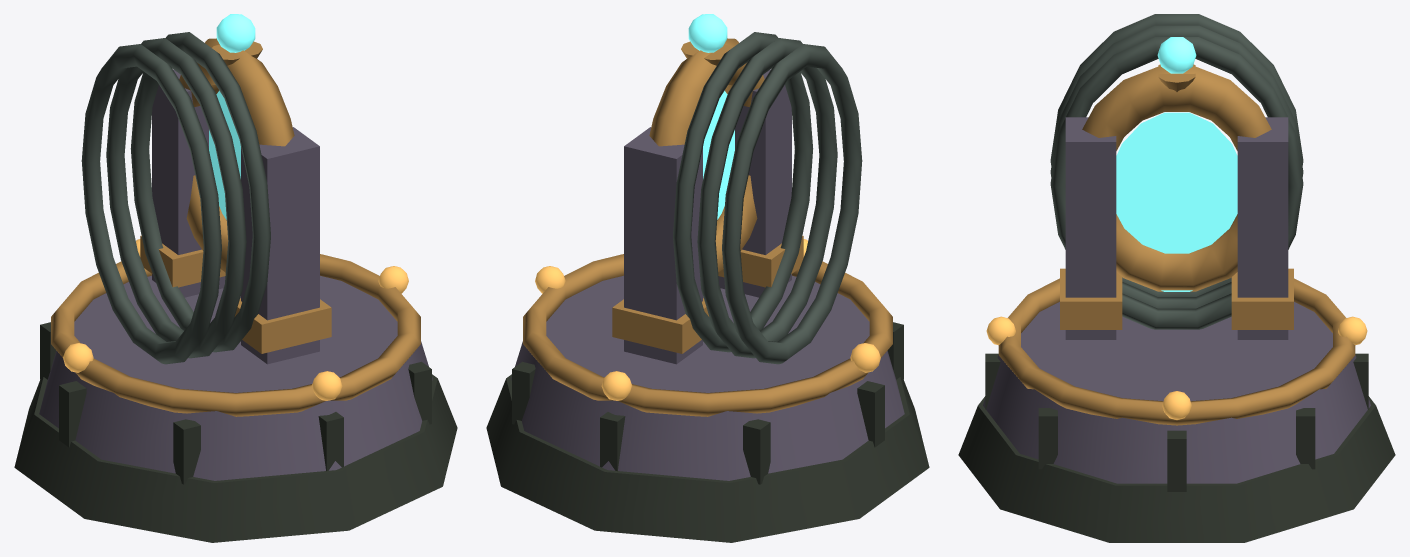
Rendered from tower_portal_portalSluice_ultimate.glb.
3 views of the same model, side by side, from view 1: azimuth 30°, elevation 25°; view 2: azimuth 150°, elevation 25°; view 3: azimuth 270°, elevation 25° (orthographic). The views are drawn at different scales.
Visible parts, largest first — view 1: stone_1, foot_0, time_gate_23, rim_2, time_gate_22, time_gate_21, arch_pillar_15, arch_pillar_17, arch_19, band_16, band_18, mortar_6 (+9 smaller); view 2: stone_1, foot_0, time_gate_23, rim_2, time_gate_22, time_gate_21, arch_pillar_17, arch_pillar_15, arch_19, band_18, band_16, mortar_8 (+9 smaller); view 3: stone_1, foot_0, portal_surface_20, arch_19, rim_2, time_gate_21, arch_pillar_15, arch_pillar_17, time_gate_22, time_gate_23, band_16, band_18 (+9 smaller).
Boxes of the visible parts, <box> form: stone_1: <box>39,275,432,480</box>; foot_0: <box>14,374,457,542</box>; time_gate_23: <box>81,44,221,364</box>; rim_2: <box>51,254,420,416</box>; time_gate_22: <box>106,38,246,358</box>; time_gate_21: <box>130,32,270,352</box>; arch_pillar_15: <box>241,127,319,364</box>; arch_pillar_17: <box>152,69,225,297</box>; arch_19: <box>179,38,294,272</box>; band_16: <box>234,298,331,353</box>; band_18: <box>140,235,225,287</box>; mortar_6: <box>173,419,200,484</box>; stone_1: <box>511,275,904,480</box>; foot_0: <box>486,374,929,542</box>; time_gate_23: <box>722,44,862,364</box>; rim_2: <box>523,254,892,416</box>; time_gate_22: <box>697,38,837,358</box>; time_gate_21: <box>673,32,813,352</box>; arch_pillar_17: <box>624,127,702,364</box>; arch_pillar_15: <box>718,69,791,297</box>; arch_19: <box>649,38,764,272</box>; band_18: <box>612,298,709,353</box>; band_16: <box>718,235,803,287</box>; mortar_8: <box>743,419,770,484</box>; stone_1: <box>983,302,1370,483</box>; foot_0: <box>958,396,1395,542</box>; portal_surface_20: <box>1116,112,1237,291</box>; arch_19: <box>1082,66,1271,291</box>; rim_2: <box>998,278,1355,425</box>; time_gate_21: <box>1050,37,1303,329</box>; arch_pillar_15: <box>1065,117,1116,339</box>; arch_pillar_17: <box>1237,117,1288,339</box>; time_gate_22: <box>1050,25,1303,308</box>; time_gate_23: <box>1050,14,1303,296</box>; band_16: <box>1060,268,1122,329</box>; band_18: <box>1231,268,1293,329</box>.
Bounding box in the file's own units: 0.5326 × 0.59 × 0.56.
